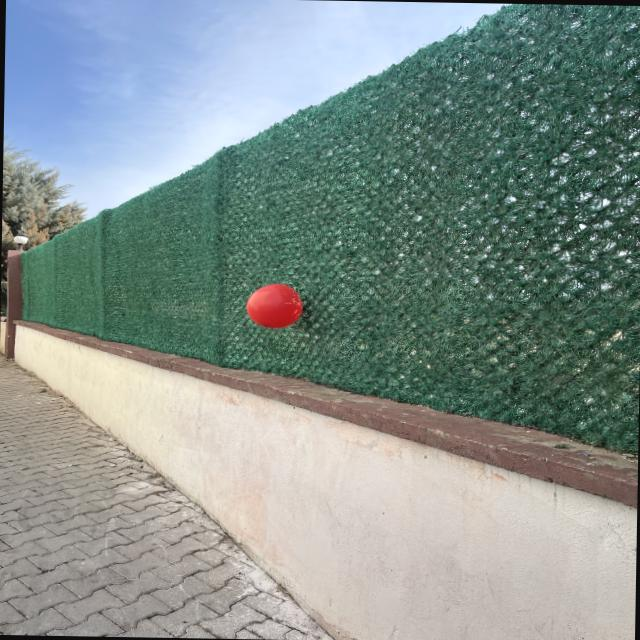balloon: (246, 284, 302, 327)
